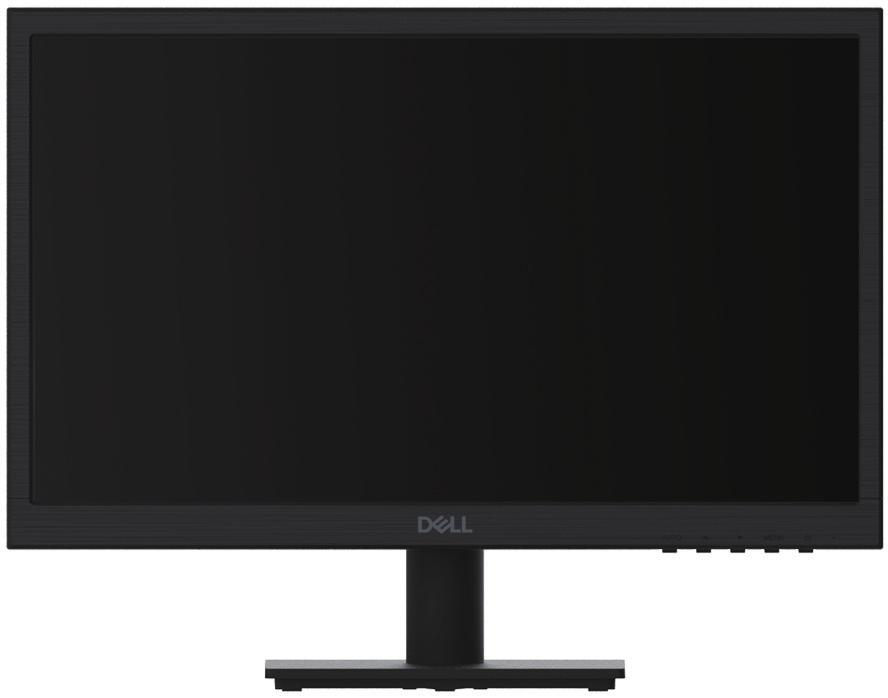dell-monitor-D1918H: (4, 5, 883, 693)
